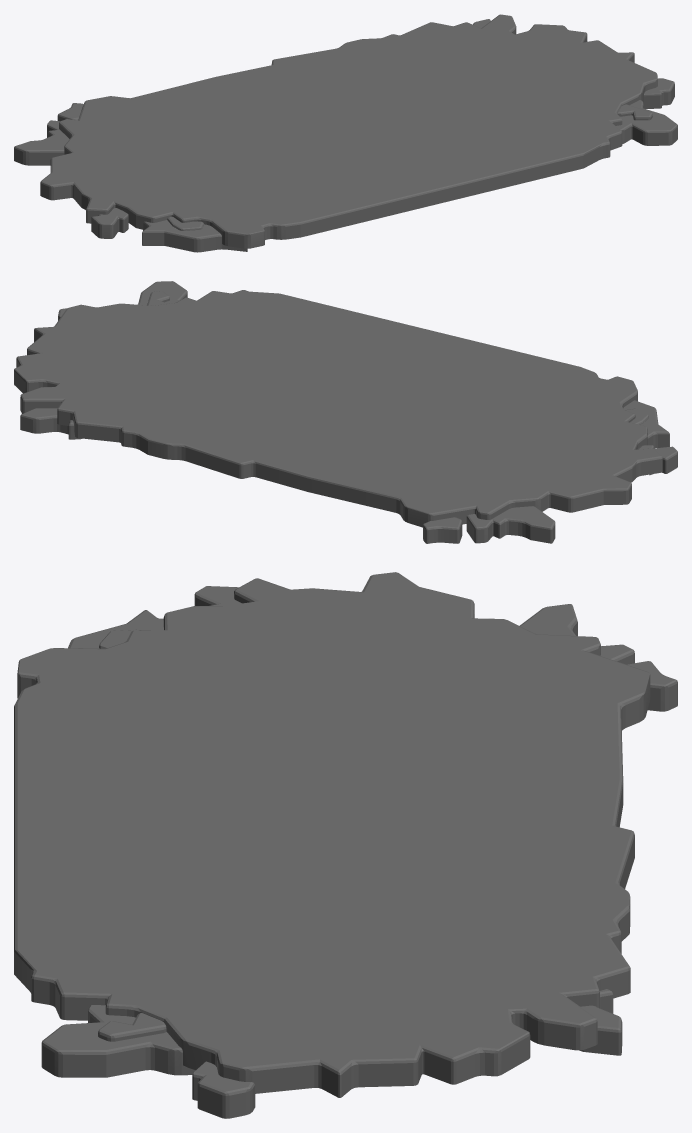
File: mesh_Factory_Ground_Outside.fbx
3 renders of one model, top to bottom at view 1: azimuth 30°, elevation 25°; view 2: azimuth 150°, elevation 25°; view 3: azimuth 270°, elevation 25°, orthographic. The views are drawn at different scales.
Parts seen in each view (by area): view 1: mesh_Factory_Ground_Outside; view 2: mesh_Factory_Ground_Outside; view 3: mesh_Factory_Ground_Outside.
Part boxes in pixels (bbox=[...]): mesh_Factory_Ground_Outside: bbox=[14, 14, 677, 252]; mesh_Factory_Ground_Outside: bbox=[14, 281, 677, 543]; mesh_Factory_Ground_Outside: bbox=[14, 572, 677, 1118].
Size of the model in its own units: 72.05 by 2.69 by 39.82.
